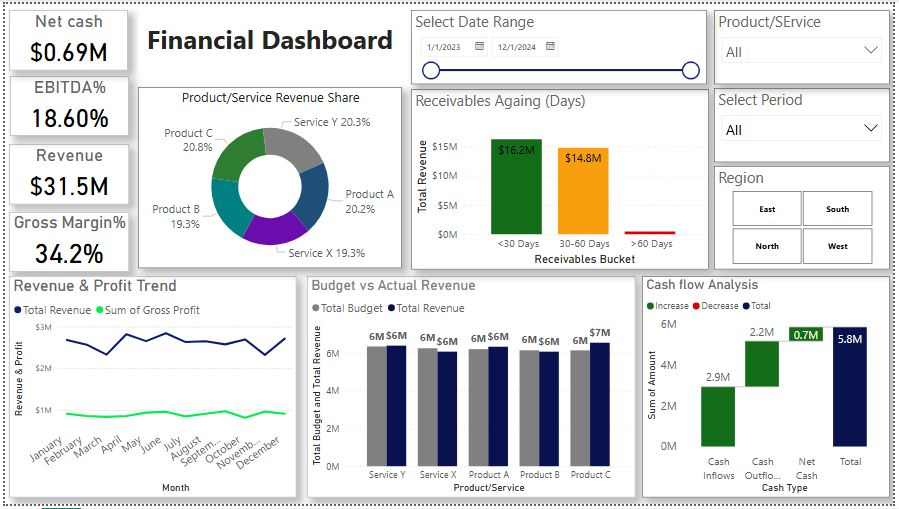

Layout of this report page (visuals, bound fields, positions):
{"tool":"powerbi","page":{"name":"Page 1","canvas":[1280,720],"ordinal":0},"visuals":[{"type":"card","title":"Revenue","fields":{"Values":["Sum(Data.Revenue)"]},"box":[5.7,201.4,172.9,87.1],"z":0},{"type":"card","title":"Gross Margin%","fields":{"Values":["Data.Gross Margin %"]},"box":[5.7,300,172.9,85.7],"z":1000},{"type":"card","title":"EBITDA%","fields":{"Values":["Data.EBITDA %"]},"box":[7.1,104.3,171.4,85.7],"z":2000},{"type":"card","title":"Net cash","fields":{"Values":["Data.Net cash"]},"box":[5.7,8.6,171.4,87.1],"z":3000},{"type":"lineChart","title":"Revenue & Profit Trend","fields":{"Category":["Data.Month.Variation.Date Hierarchy.Month"],"Y":["Data.Total Revenue","Sum(Data.Gross Profit)"]},"box":[5.9,392.4,414.4,318.9],"z":4000},{"type":"clusteredColumnChart","title":"Budget vs Actual Revenue","fields":{"Y":["Data.Total Budget","Data.Total Revenue"],"Category":["Data.Product/Service"]},"box":[435,392.4,473.2,318.9],"z":5000},{"type":"donutChart","title":"Product/Service Revenue Share","fields":{"Category":["Data.Product/Service"],"Y":["Data.Total Revenue"]},"box":[191.4,120,380,261.4],"z":6000},{"type":"clusteredColumnChart","title":"Receivables Againg (Days)","fields":{"Y":["Data.Total Revenue"],"Category":["Data.Receivables Bucket"]},"box":[584.9,122,429.1,260.1],"z":7000},{"type":"waterfallChart","title":"Cash flow Analysis","fields":{"Y":["Sum(Cash Flow Table.Amount)"],"Category":["Cash Flow Table.Cash Type"]},"box":[917,392.4,357.1,318.9],"z":8000},{"type":"slicer","title":"Select Period","fields":{"Values":["Data.Month.Variation.Date Hierarchy.Year","Data.Month.Variation.Date Hierarchy.Quarter","Data.Month.Variation.Date Hierarchy.Month"]},"box":[1021.4,121.4,252.9,107.1],"z":9000},{"type":"slicer","title":"Region","fields":{"Values":["Data.Region"]},"box":[1021.4,232.9,252.9,148.6],"z":10000},{"type":"slicer","title":"Product/SErvice","fields":{"Values":["Data.Product/Service"]},"box":[1021.4,8.6,252.9,107.1],"z":11000},{"type":"slicer","title":"Select Date Range","fields":{"Values":["Data.Month"]},"box":[584.3,8.6,425.7,107.1],"z":12000},{"type":"textbox","box":[191.4,20,380,72.9],"z":13000}]}

Visuals, with their boxes in screenshot pixels (x1, y1, x2, y2), scaled from the page's 1280x720 canvas onto the 899x509 screenshot:
"Revenue" card: (4, 142, 125, 204)
"Gross Margin%" card: (4, 212, 125, 273)
"EBITDA%" card: (5, 74, 125, 134)
"Net cash" card: (4, 6, 124, 68)
"Revenue & Profit Trend" lineChart: (4, 277, 295, 503)
"Budget vs Actual Revenue" clusteredColumnChart: (306, 277, 638, 503)
"Product/Service Revenue Share" donutChart: (134, 85, 401, 270)
"Receivables Againg (Days)" clusteredColumnChart: (411, 86, 712, 270)
"Cash flow Analysis" waterfallChart: (644, 277, 895, 503)
"Select Period" slicer: (717, 86, 895, 162)
"Region" slicer: (717, 165, 895, 270)
"Product/SErvice" slicer: (717, 6, 895, 82)
"Select Date Range" slicer: (410, 6, 709, 82)
textbox: (134, 14, 401, 66)
